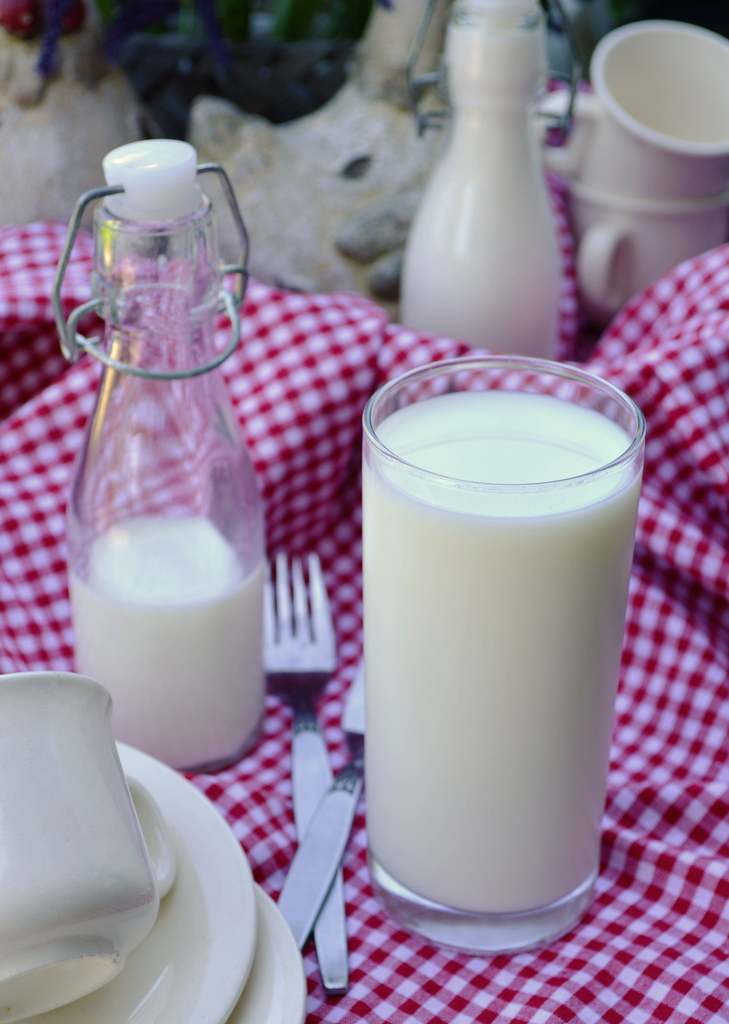glass of milk: (366, 368, 645, 953), (63, 445, 273, 768)
